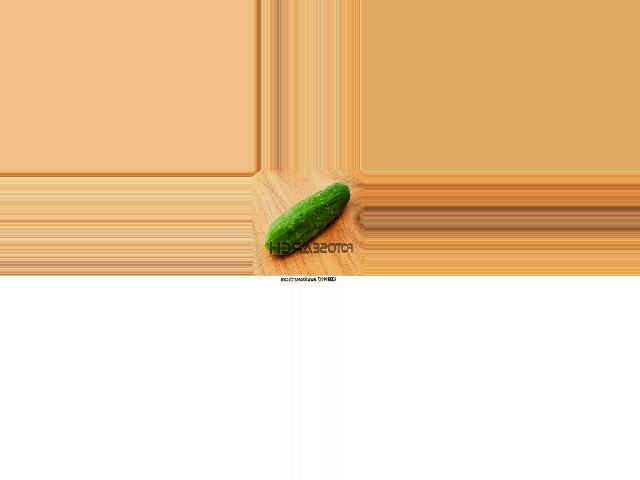cucumber: (263, 182, 350, 256)
